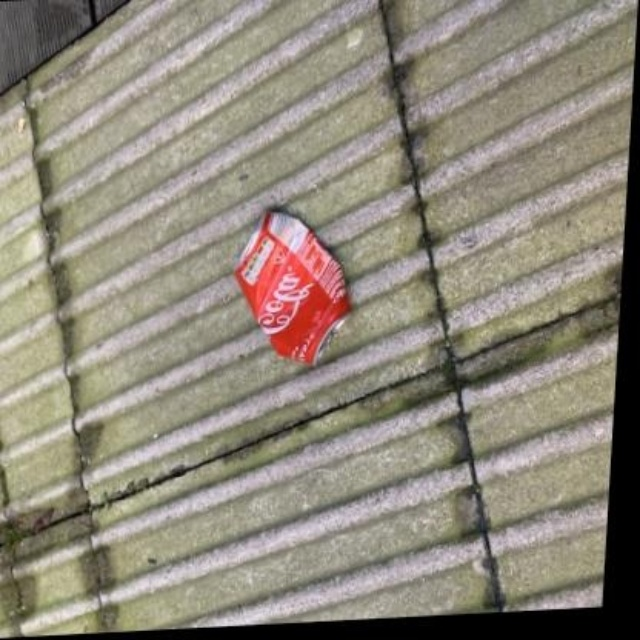trash: (235, 211, 349, 363)
